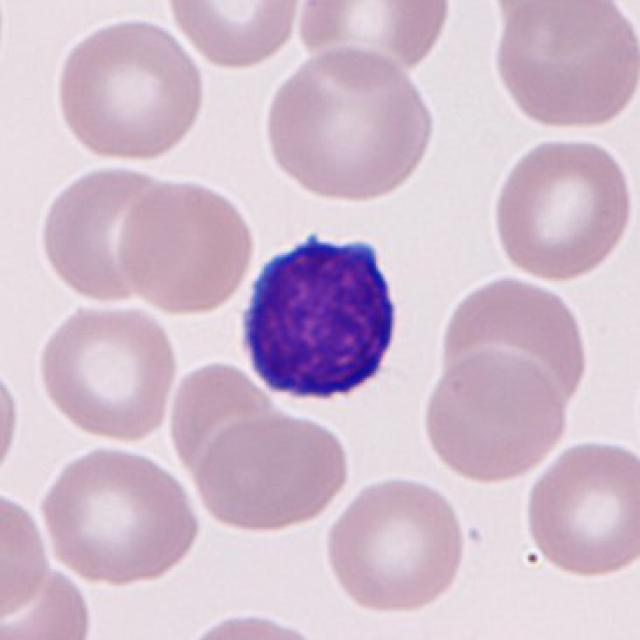Lymphocyte: (232, 218, 411, 414)
RBC: (259, 42, 437, 205), (33, 441, 205, 586), (51, 14, 210, 165), (488, 130, 636, 285), (435, 271, 593, 416), (320, 470, 472, 617), (33, 295, 180, 446), (35, 160, 185, 307), (418, 345, 572, 486), (189, 409, 353, 536), (114, 175, 255, 318), (488, 0, 638, 134), (520, 434, 638, 581), (162, 355, 280, 484), (294, 0, 454, 82), (163, 0, 306, 71), (0, 560, 96, 640), (0, 484, 52, 628), (486, 0, 631, 47), (173, 607, 334, 640), (0, 354, 23, 491)
